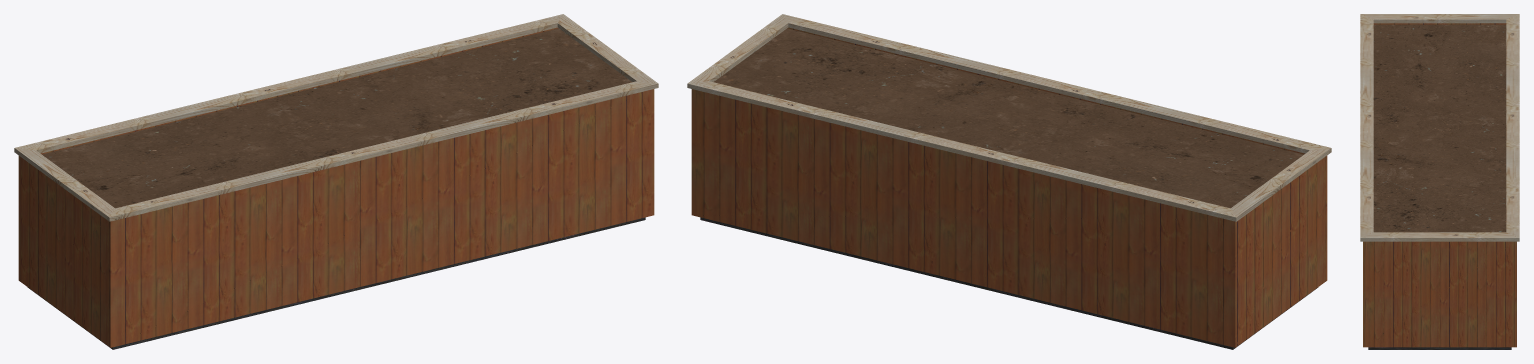
File: GardenPlanter01_3.FBX
3 views of the same model, side by side, from view 1: azimuth 30°, elevation 25°; view 2: azimuth 150°, elevation 25°; view 3: azimuth 270°, elevation 25° (orthographic). The views are drawn at different scales.
Parts seen in each view (by area): view 1: GardenPlanter01_3; view 2: GardenPlanter01_3; view 3: GardenPlanter01_3.
Part boxes in pixels (x1,y1,x2,y2): GardenPlanter01_3: (14, 14, 658, 349); GardenPlanter01_3: (687, 14, 1331, 349); GardenPlanter01_3: (1360, 14, 1519, 349).
Size of what is drawn, in the model's own units: 2 by 0.48 by 0.6.
